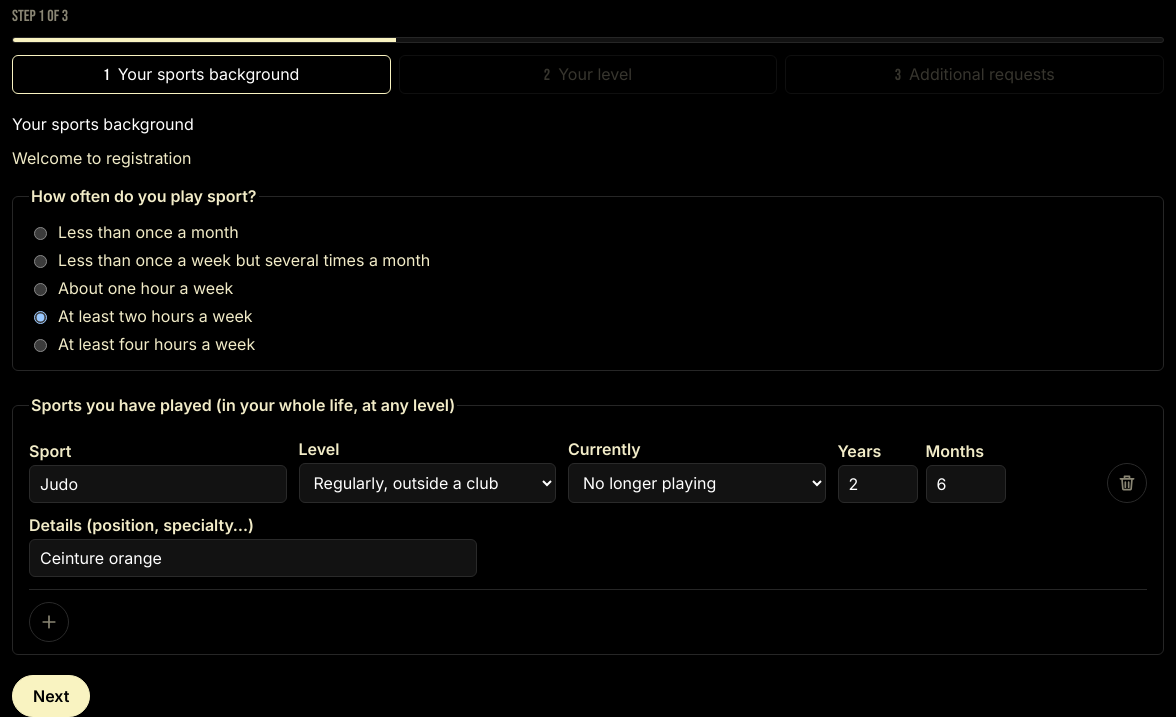
Scenario: RegistrationForm › shows the form again to an organiser-removed player who holds a late pass
This screenshot has width=1176, height=717.
(page scrolled)
Step 1. Click the button "Next" → [51, 696], box [12,675,90,716]
(page scrolled)
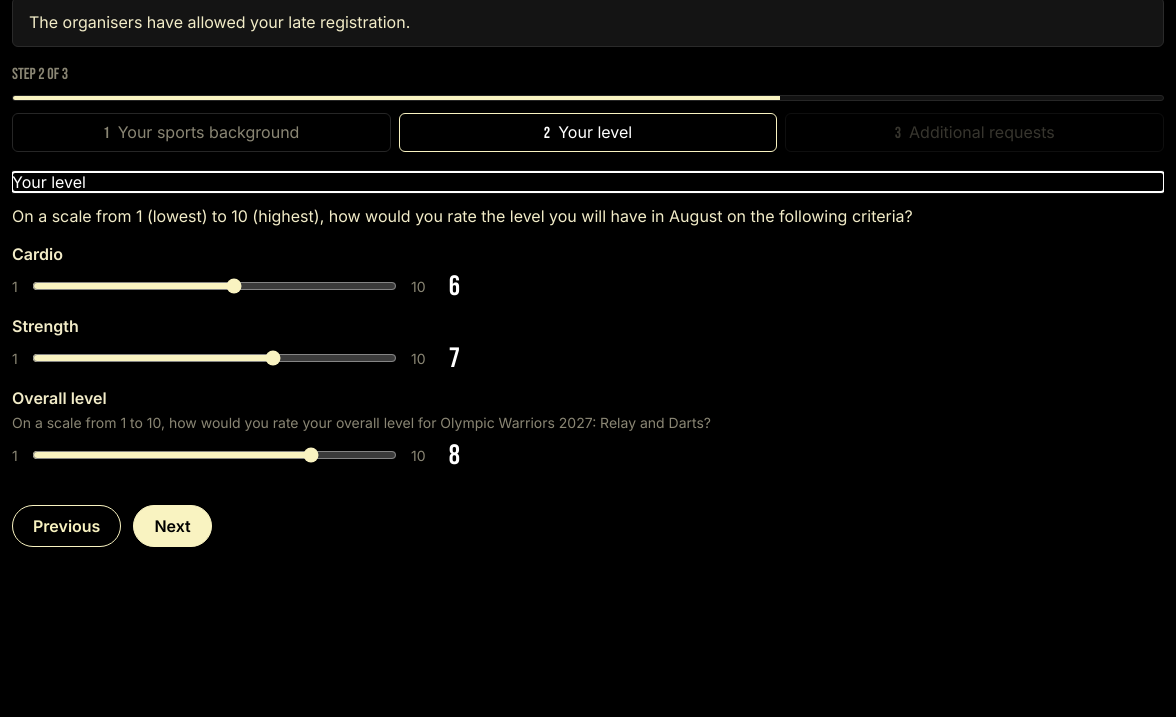
Step 2. Click the button "Next" → [173, 526], box [133,505,212,547]
(page scrolled)
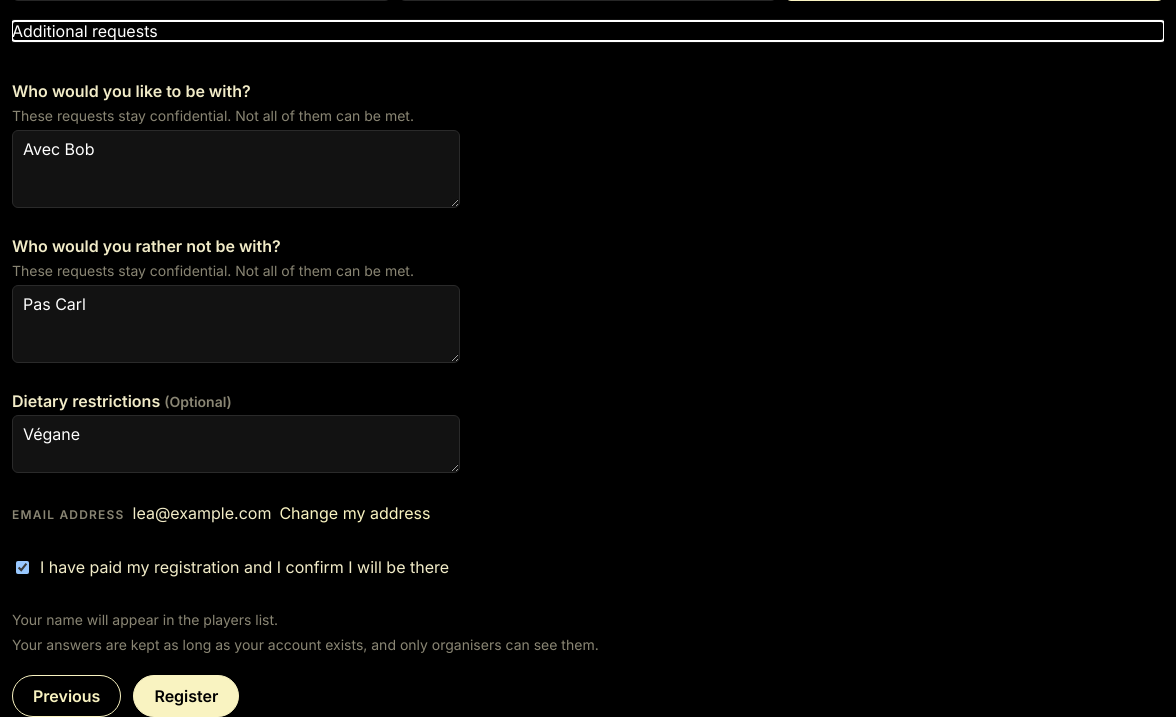
expect the button "Register" is shown: met, box [133,675,239,716]
